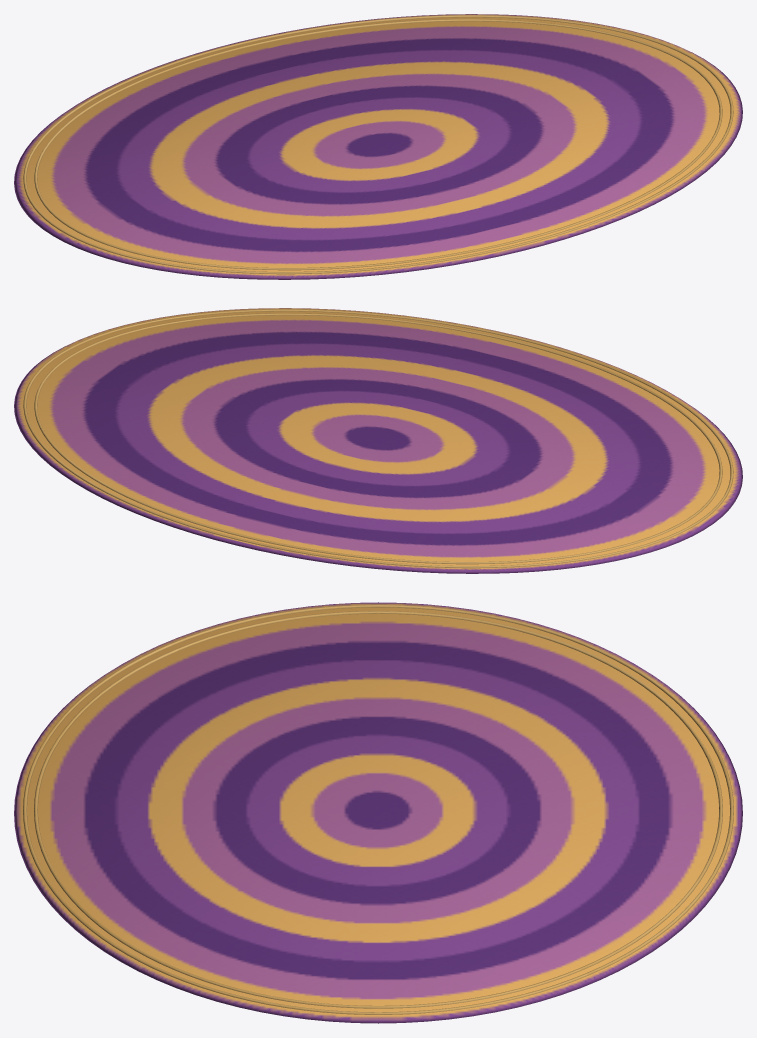
Rendered from V5_Rug.fbx.
3 views of the same model, one above another, from view 1: azimuth 30°, elevation 25°; view 2: azimuth 150°, elevation 25°; view 3: azimuth 270°, elevation 25° (orthographic). The views are drawn at different scales.
Parts seen in each view (by area): view 1: V5_Rug; view 2: V5_Rug; view 3: V5_Rug.
Boxes of the visible parts, x1,y1,x2,y2 form: V5_Rug: (14,14,742,279); V5_Rug: (14,308,742,573); V5_Rug: (14,602,742,1023).
Bounding box in the file's own units: 3 × 0.0232 × 2.2.
2 materials, 2 textured.
